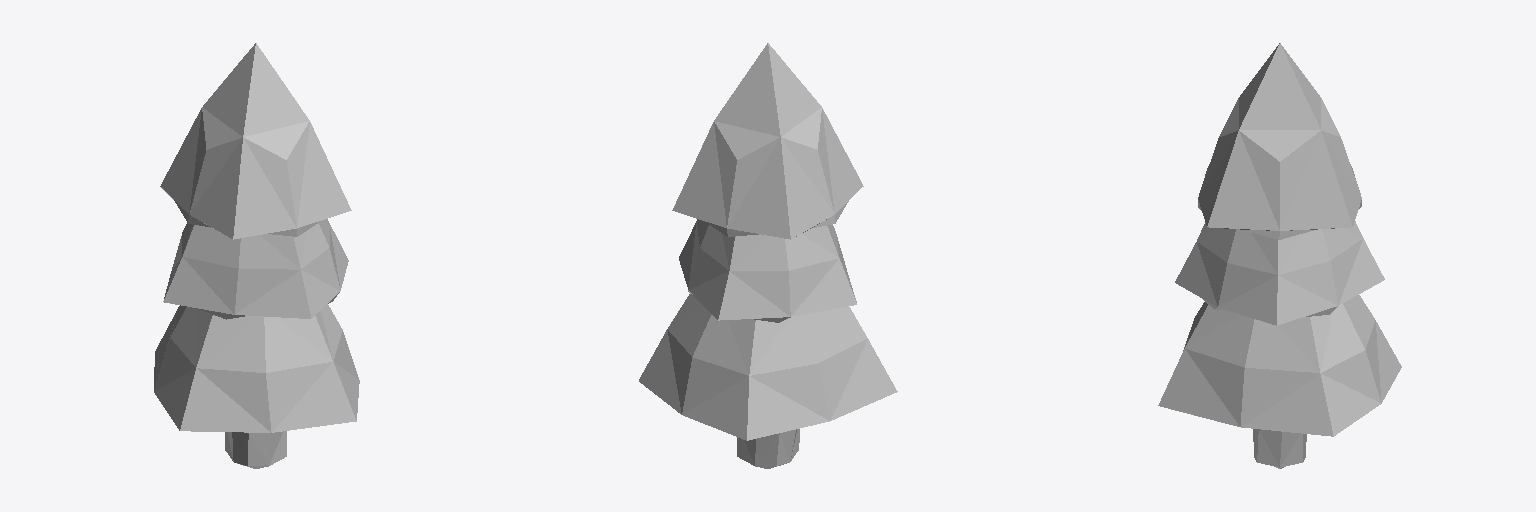
Rendered from pine.obj.
3 views of the same model, side by side, from view 1: azimuth 30°, elevation 25°; view 2: azimuth 150°, elevation 25°; view 3: azimuth 270°, elevation 25° (orthographic).
Parts seen in each view (by area): view 1: Pyramid001; view 2: Pyramid001; view 3: Pyramid001.
Boxes of the visible parts, <box> form: Pyramid001: <box>154,43,359,468</box>; Pyramid001: <box>639,43,897,468</box>; Pyramid001: <box>1158,43,1401,468</box>.
Size of the model in its own units: 5.18 by 10.26 by 5.32.